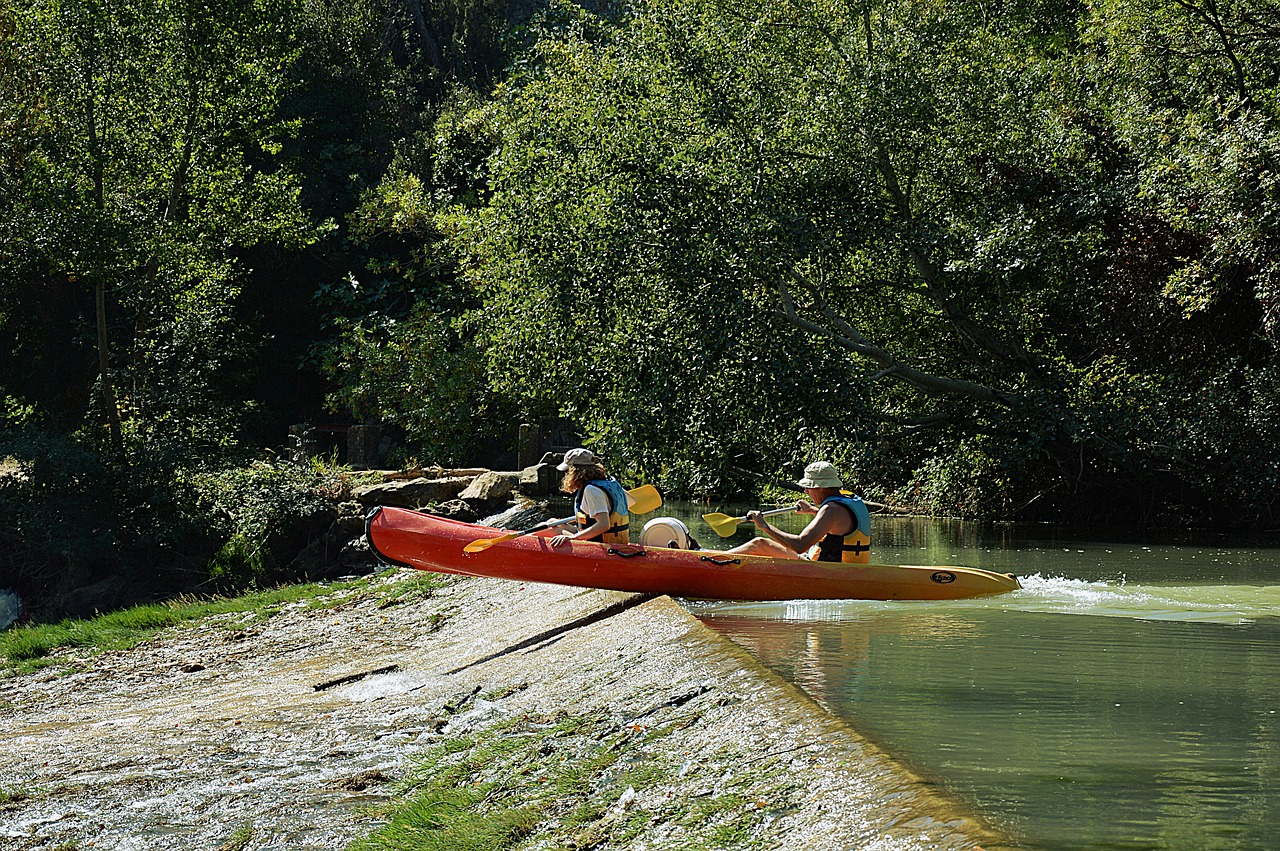kayak: (367, 502, 1040, 609)
